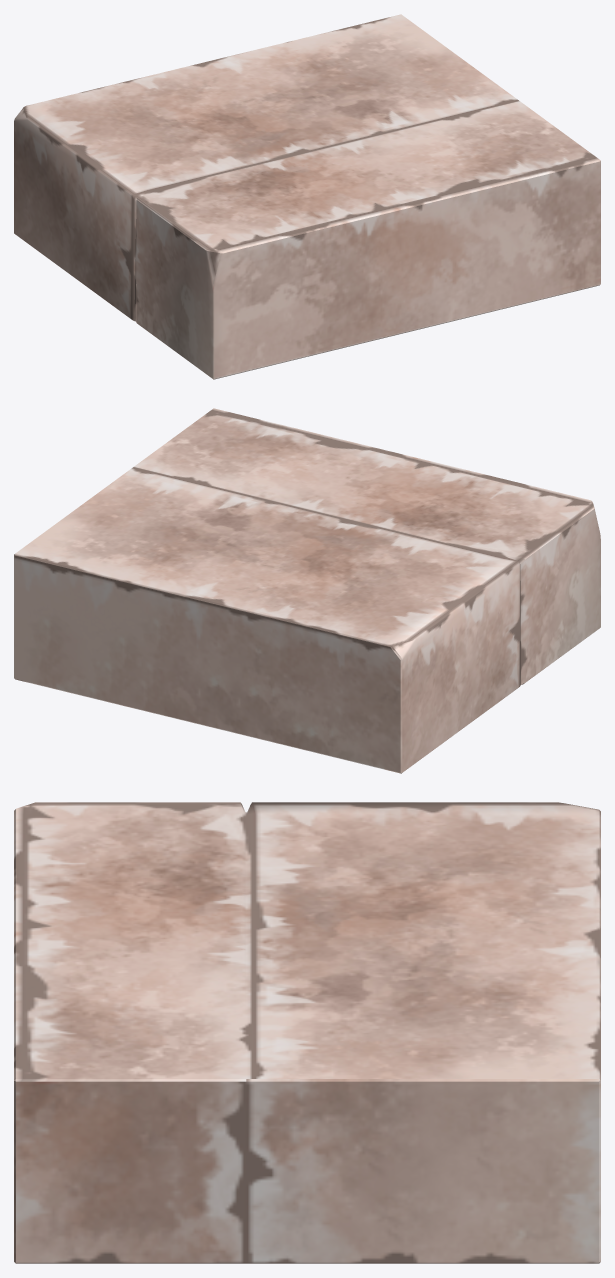
The model's file is Z1_Big_Flat_Stone_2.FBX.
The picture shows the model from 3 angles, top to bottom: view 1: azimuth 30°, elevation 25°; view 2: azimuth 150°, elevation 25°; view 3: azimuth 270°, elevation 25°; orthographic projection. The views are drawn at different scales.
Visible parts, largest first — view 1: Z1_Big_Flat_Stone_2; view 2: Z1_Big_Flat_Stone_2; view 3: Z1_Big_Flat_Stone_2.
Part boxes in pixels (x1,y1,x2,y2): Z1_Big_Flat_Stone_2: (14, 14, 600, 379); Z1_Big_Flat_Stone_2: (14, 408, 600, 773); Z1_Big_Flat_Stone_2: (14, 802, 600, 1263).
Size of the model in its own units: 329 by 102 by 294.
